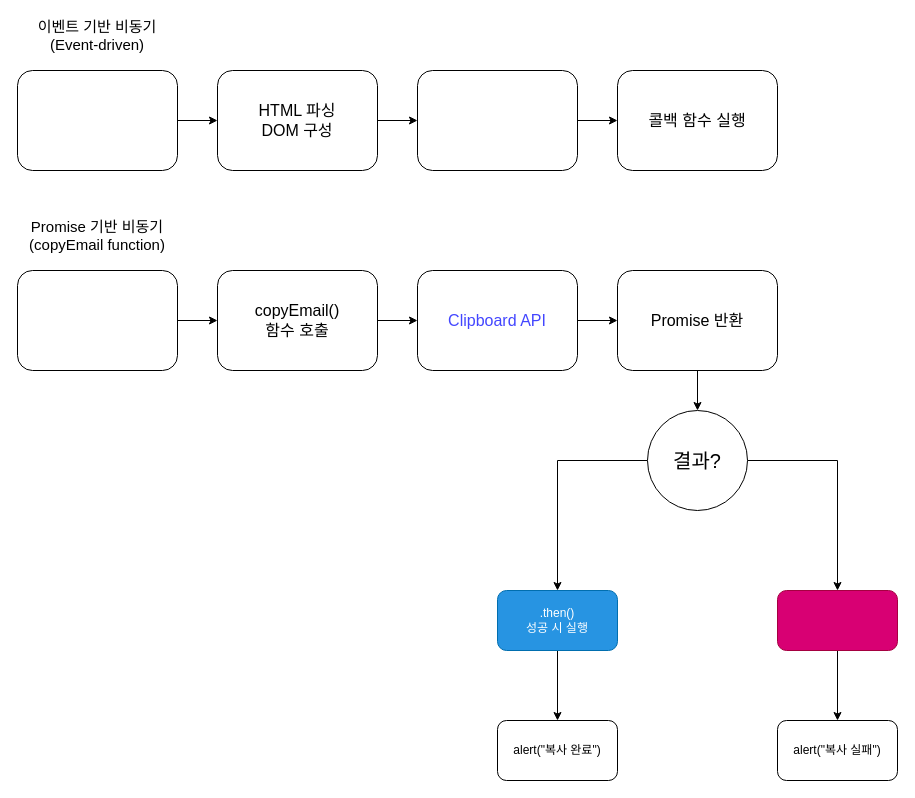
Some shapes in this 915 by 798 pixel diagram are drawn without their labels. The box of each missing label's shape, as (x1, y1, x2, y2) in pixels:
.catch() 실패 시 실행: (776, 590, 898, 650)
DOMContentLoaded 이벤트 발생: (416, 70, 578, 170)
브라우저: (16, 70, 178, 170)
사용자 버튼 클릭: (16, 270, 178, 370)
